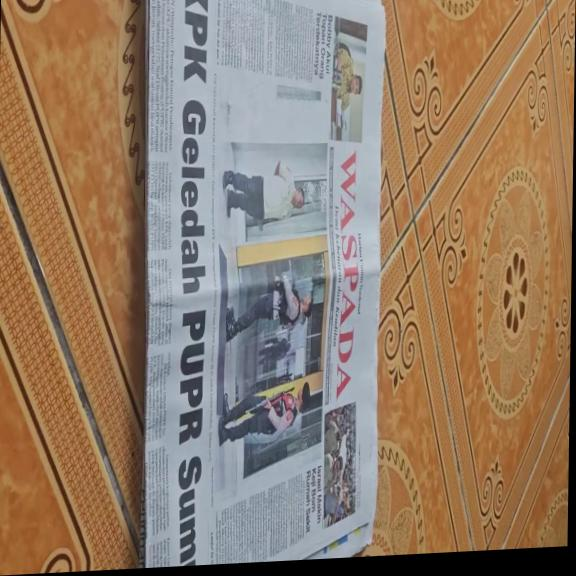Kertas: (144, 0, 384, 559)
